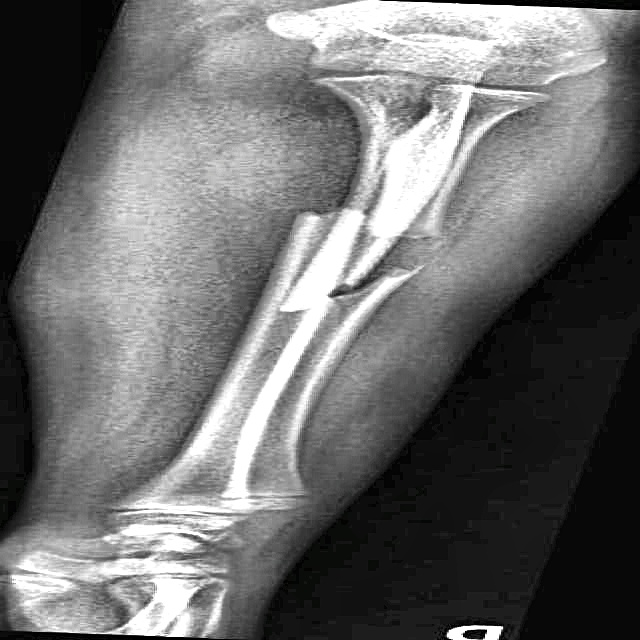Oblique: (230, 188, 471, 332)
